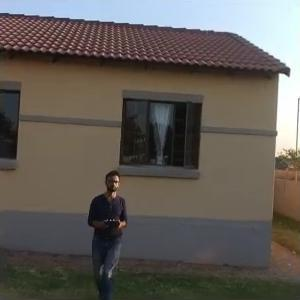follow: (86, 167, 138, 298)
